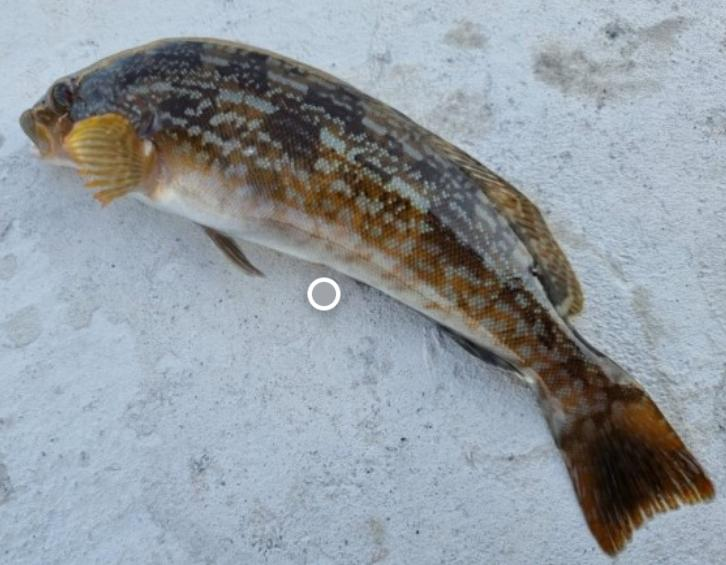fish: (21, 38, 713, 554)
